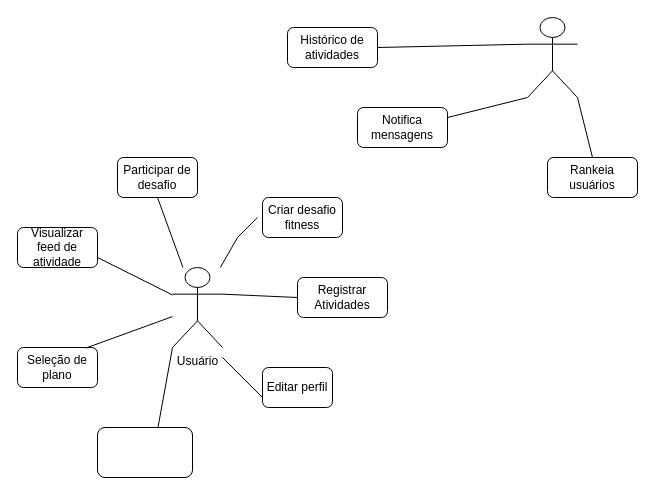
This 655x495 diagram has some shape labels left out. The centre of each missing label's shape, as x and y in pixels:
Criar conta: pixel 144 452
m-Gym: pixel 552 57
